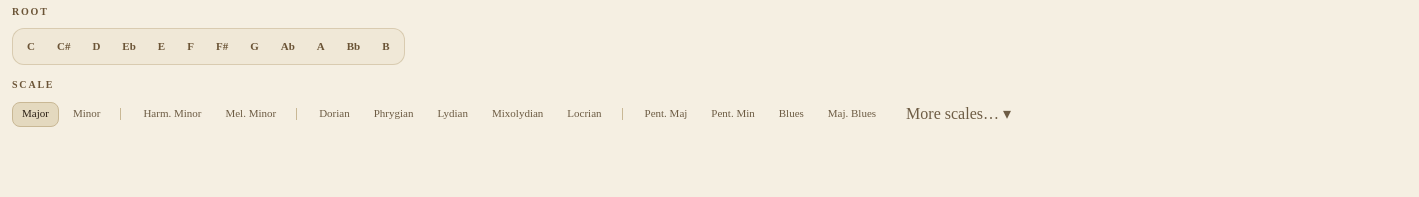
Test: KeySelector scale types › clicking "More scales" shows additional groups
What coordinates should you click on to do the following:
click the button "More scales… ▾"
I would click on:
 (959, 114)
Its box is top-left (898, 98), bottom-right (1019, 130).
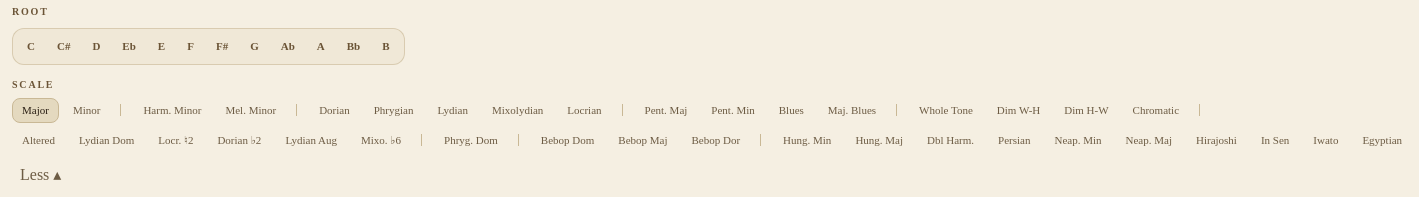
Check: the text "Persian" is shown, box top-left (998, 134), bottom-right (1030, 146)
Check: the text "Hirajoshi" is shown, box top-left (1196, 134), bottom-right (1237, 146)
